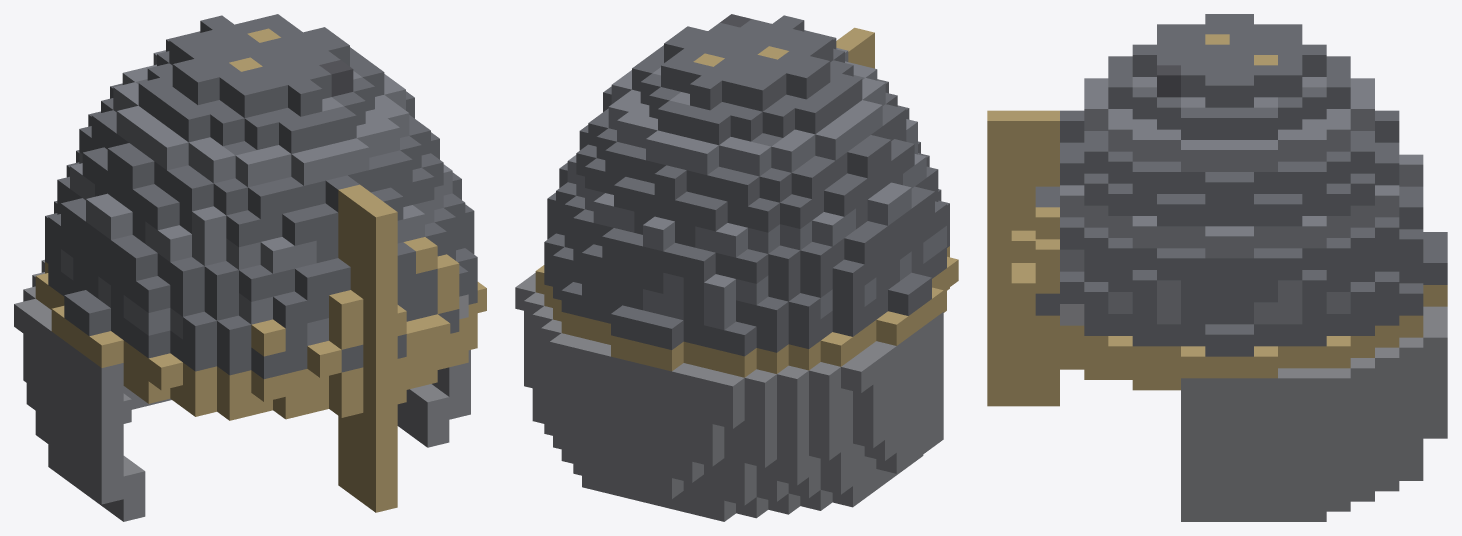
Rendered from scale_rare_helmet_lod1.glb.
3 renders of one model, left to right at view 1: azimuth 30°, elevation 25°; view 2: azimuth 150°, elevation 25°; view 3: azimuth 270°, elevation 25°, orthographic. The views are drawn at different scales.
Parts seen in each view (by area): view 1: scale_rare_helmet_lod1; view 2: scale_rare_helmet_lod1; view 3: scale_rare_helmet_lod1.
Part boxes in pixels (x1,y1,x2,y2): scale_rare_helmet_lod1: (14, 14, 486, 521); scale_rare_helmet_lod1: (515, 14, 958, 521); scale_rare_helmet_lod1: (987, 14, 1447, 521).
Size of the model in its own units: 0.408 by 0.432 by 0.456.
